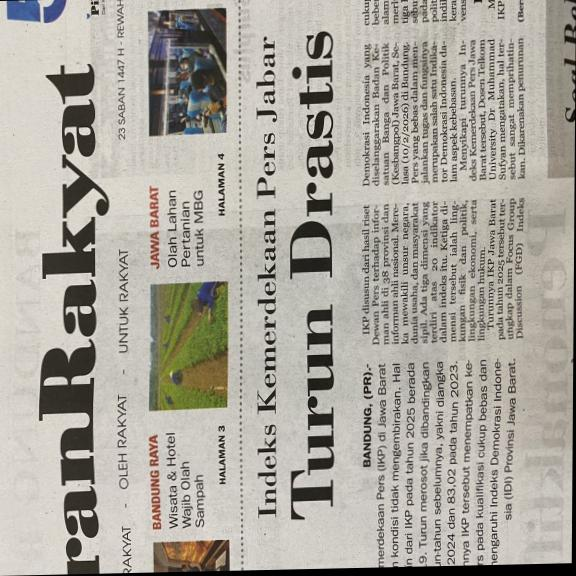Kertas: (0, 0, 576, 574)
